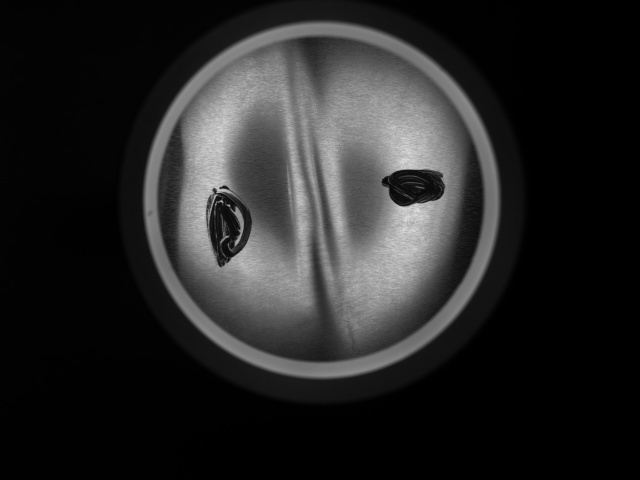zang_wu: (205, 182, 255, 269), (380, 168, 453, 209)
zhe_zhou: (197, 69, 443, 333)
